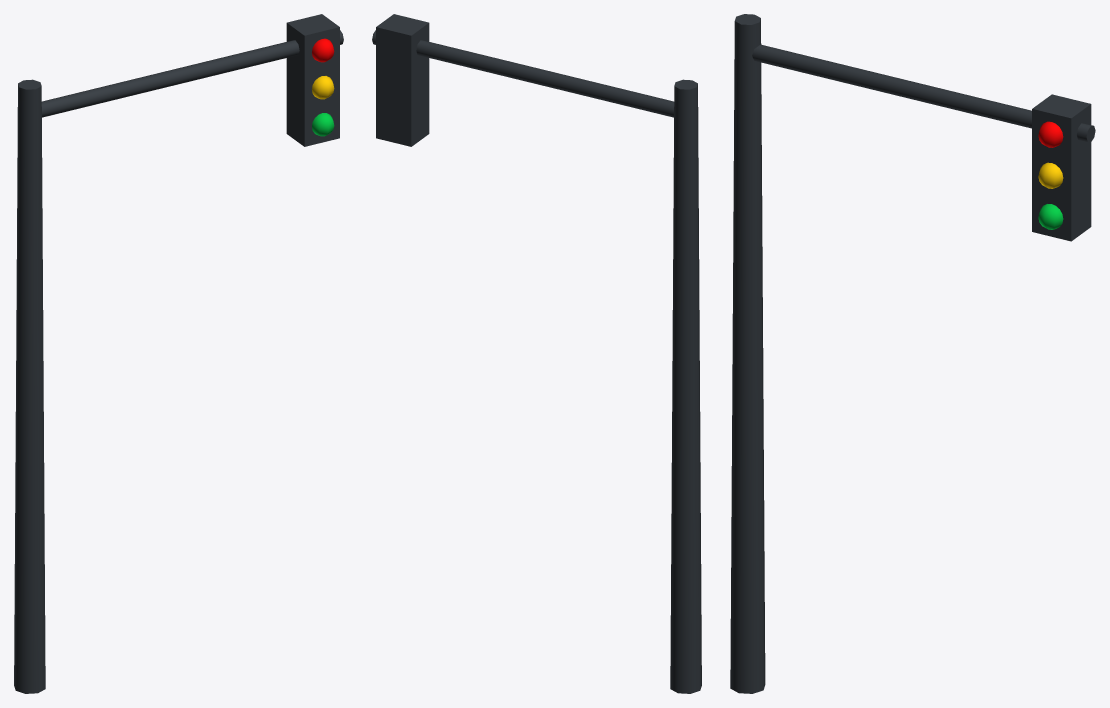
Rendered from traffic_light.glb.
The picture shows the model from 3 angles, left to right: view 1: azimuth 30°, elevation 25°; view 2: azimuth 150°, elevation 25°; view 3: azimuth 330°, elevation 25°; orthographic projection. The views are drawn at different scales.
Parts seen in each view (by area): view 1: TrafficLight; view 2: TrafficLight; view 3: TrafficLight.
Boxes of the visible parts, x1,y1,x2,y2 form: TrafficLight: [14, 14, 343, 693]; TrafficLight: [372, 14, 701, 693]; TrafficLight: [730, 14, 1095, 693].
Bounding box in the file's own units: 3.66 × 6.5 × 0.475.
